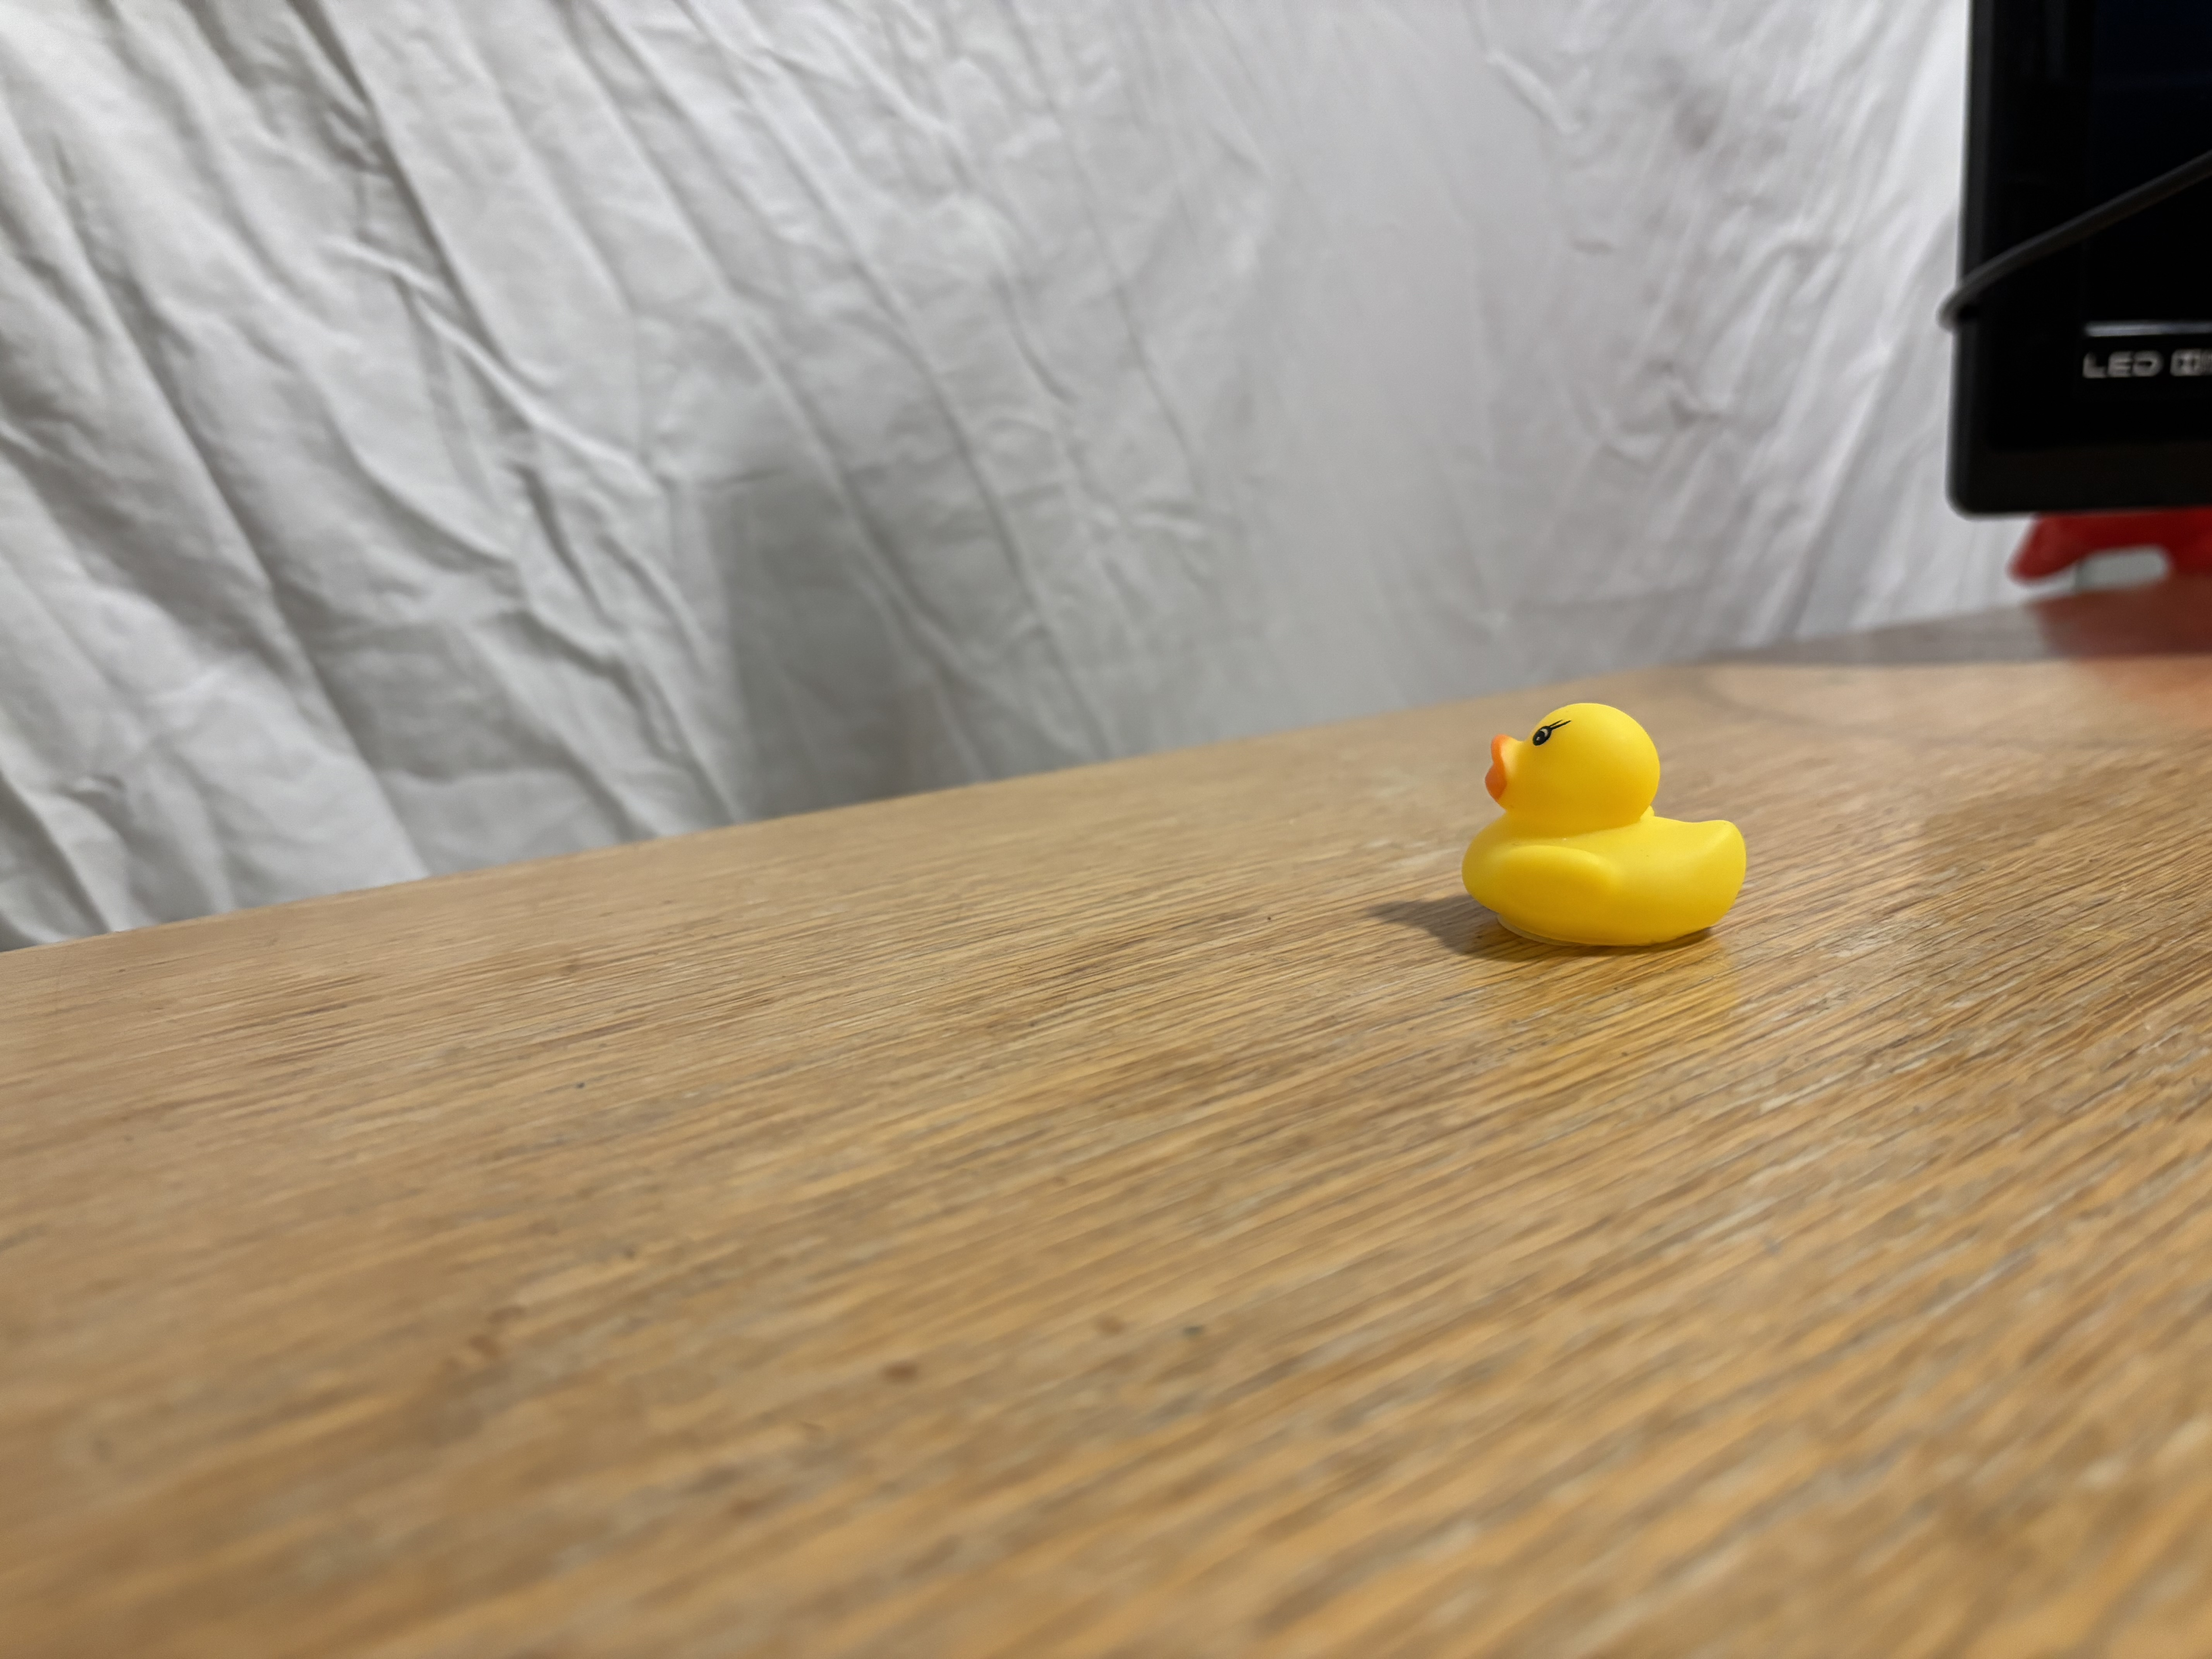duck_regular: (1460, 704, 1766, 931)
